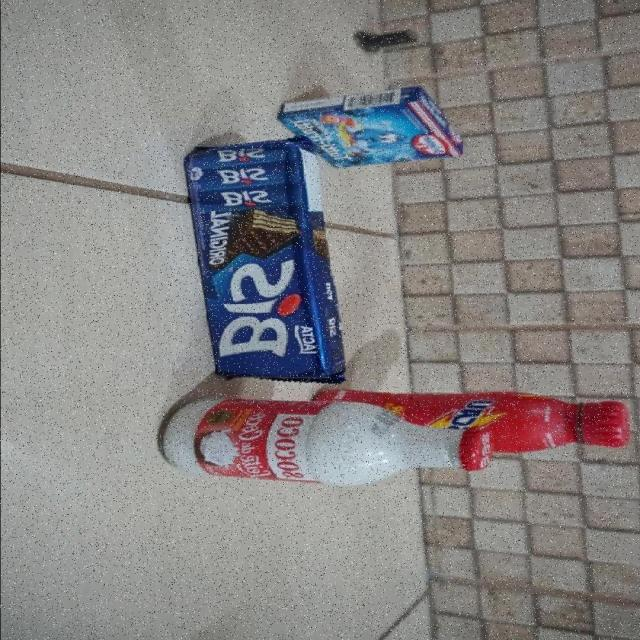ChocolateMilk: (487, 389, 634, 450)
CoconutMilk: (169, 394, 492, 479)
Gelatine: (290, 84, 466, 168)
